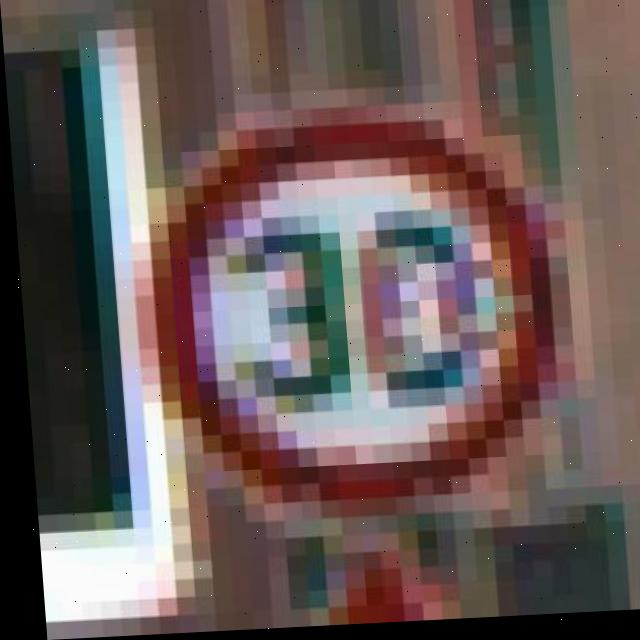Speed limit 30: (90, 1, 618, 635)
